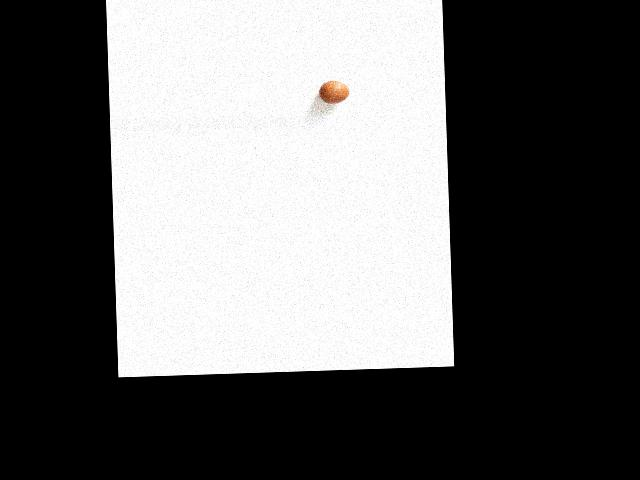egg: (318, 80, 349, 103)
